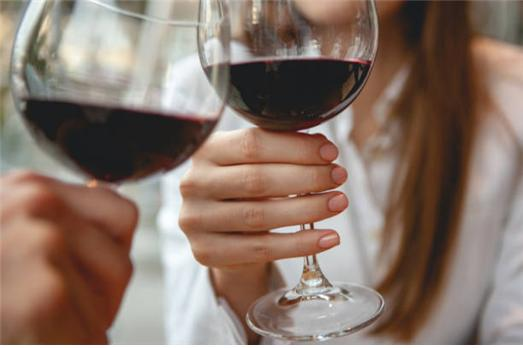alcohol: (196, 0, 389, 338), (5, 0, 228, 195)
